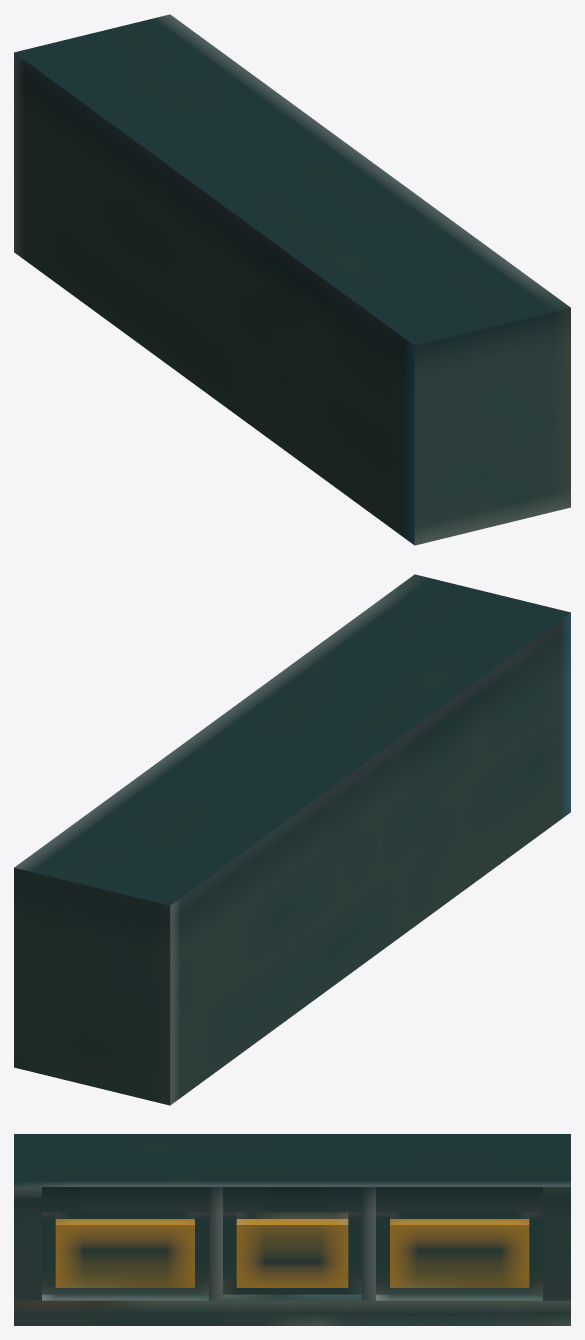
Rendered from BookshelfCabinetBlue_00.fbx.
3 renders of one model, top to bottom at view 1: azimuth 30°, elevation 25°; view 2: azimuth 150°, elevation 25°; view 3: azimuth 270°, elevation 25°, orthographic. The views are drawn at different scales.
Visible parts, largest first — view 1: BookshelfCabinetBlue_00; view 2: BookshelfCabinetBlue_00; view 3: BookshelfCabinetBlue_00.
Part boxes in pixels (x1,y1,x2,y2): BookshelfCabinetBlue_00: [14, 14, 570, 545]; BookshelfCabinetBlue_00: [14, 574, 570, 1105]; BookshelfCabinetBlue_00: [14, 1134, 570, 1325].
Bounding box in the file's own units: 45 × 200 × 55.
1 material, 1 textured.
